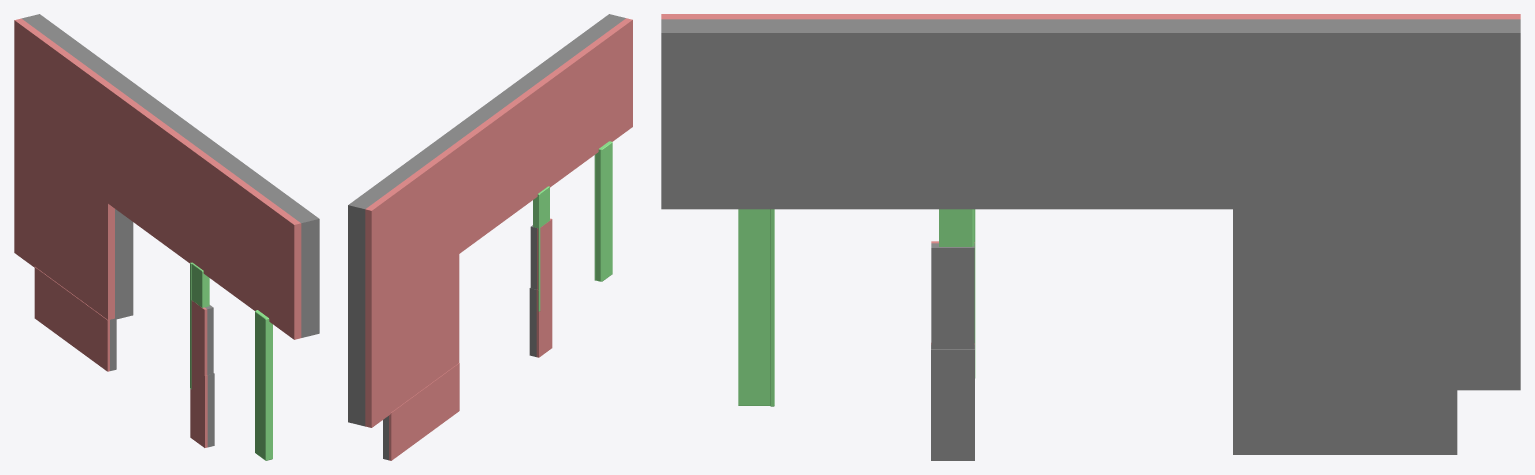
File: S_Envi_Laboratory_Building_029.gltf
The picture shows the model from 3 angles, left to right: view 1: azimuth 30°, elevation 25°; view 2: azimuth 150°, elevation 25°; view 3: azimuth 270°, elevation 25°; orthographic projection. The views are drawn at different scales.
Visible parts, largest first — view 1: S_Envi_Laboratory_Building_029; view 2: S_Envi_Laboratory_Building_029; view 3: S_Envi_Laboratory_Building_029.
Boxes of the visible parts, x1,y1,x2,y2 form: S_Envi_Laboratory_Building_029: (14,14,319,460); S_Envi_Laboratory_Building_029: (348,14,632,460); S_Envi_Laboratory_Building_029: (661,14,1520,460).
Size of the model in its own units: 1.59 by 15.16 by 26.79.
